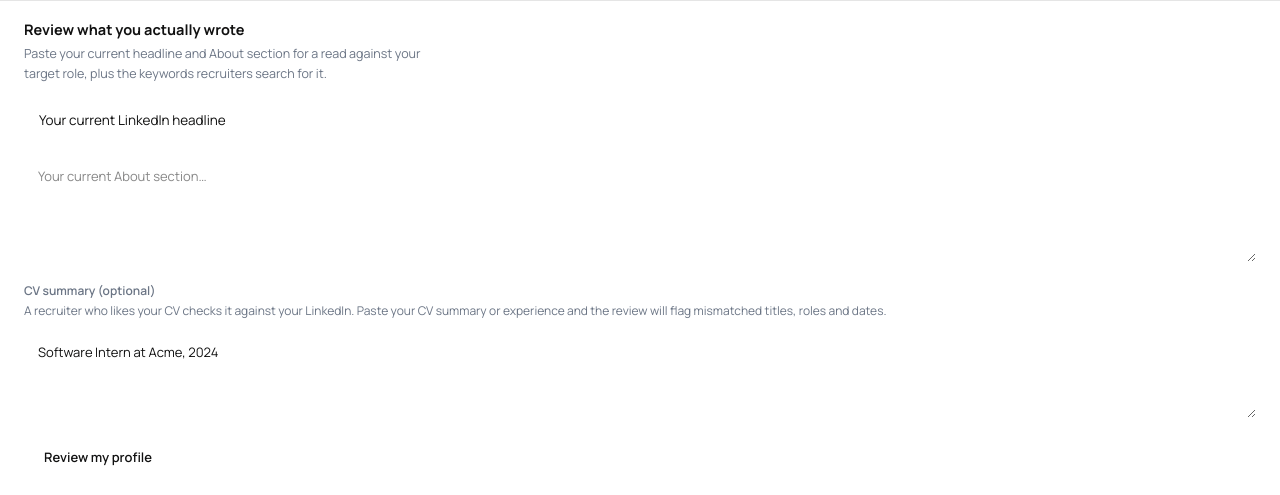
Scenario: LinkedInPanel › keeps review disabled until a headline or about is entered
Expected: the button "Review my profile" is disabled, [24,436,172,478]
Type "Aspiring dev" into the field with placeholder "Your current LinkedIn headline". click: point(640, 120)
box: [24,98,1256,142]
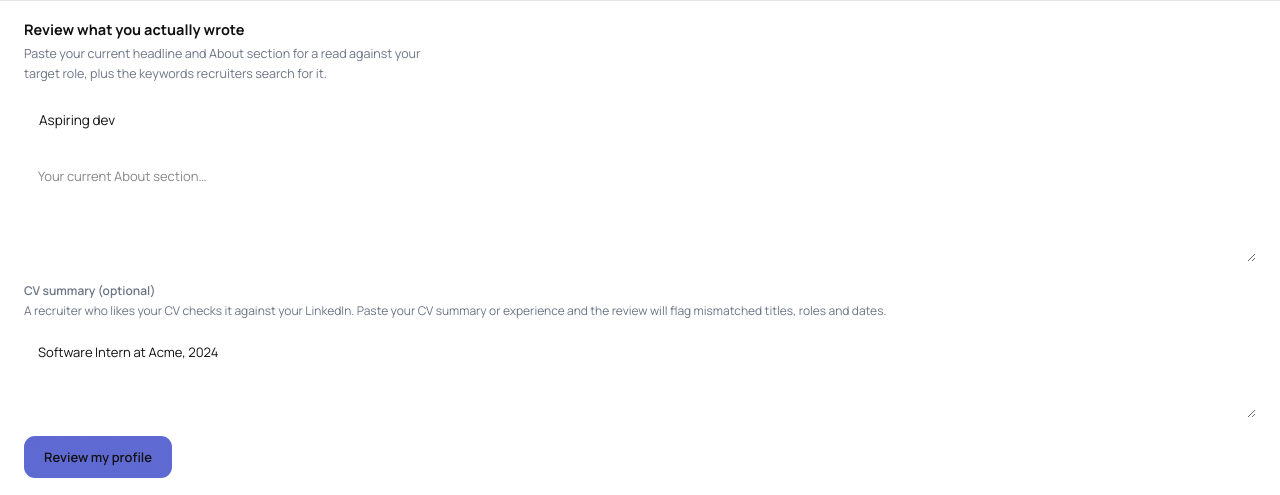
Result: the button "Review my profile" is enabled at [24,436,172,478]
